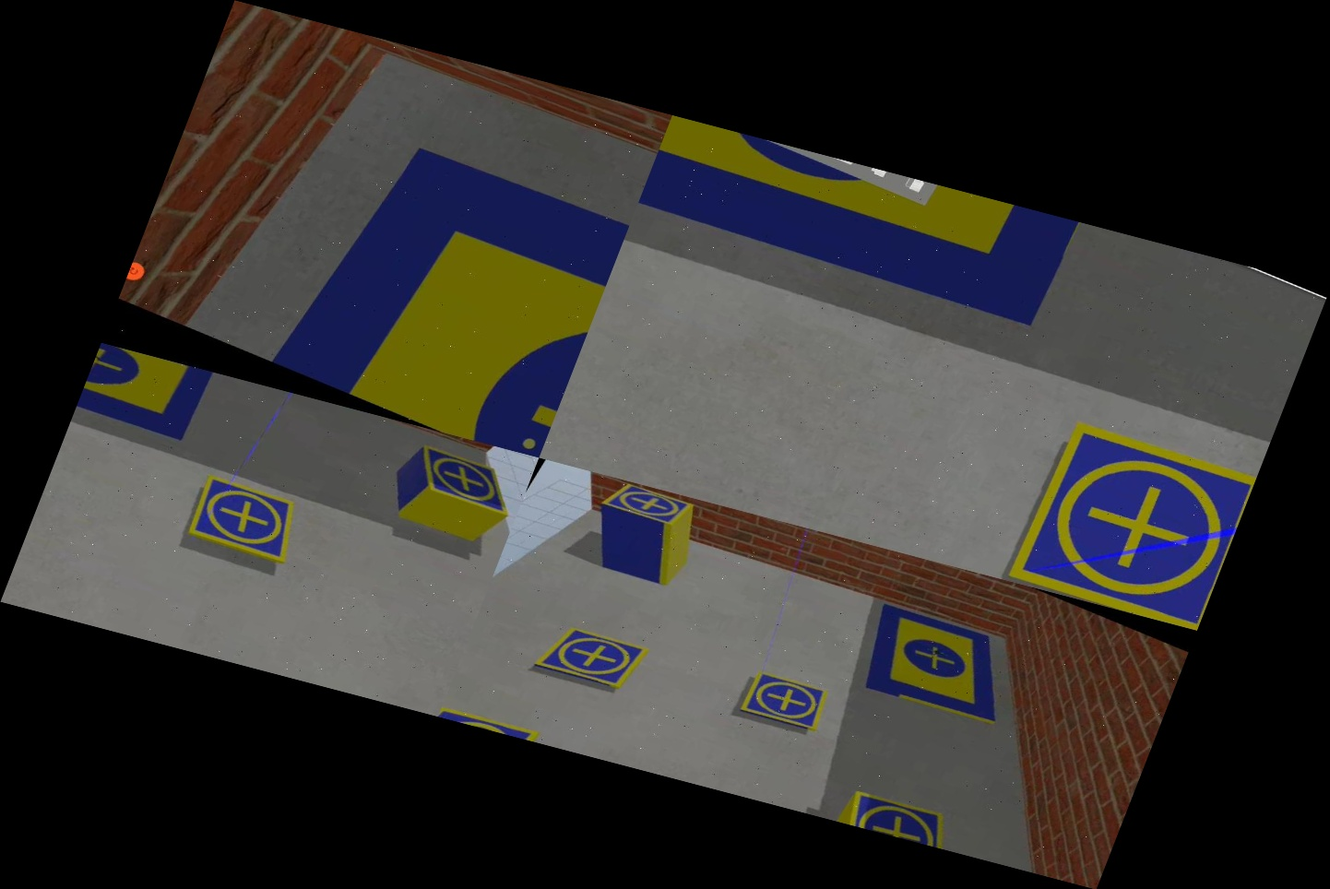large_base: (261, 107, 647, 457), (615, 115, 1098, 373), (833, 591, 1045, 742), (67, 343, 225, 461)
small_base: (986, 398, 1265, 631), (173, 472, 319, 579), (396, 440, 534, 527), (528, 611, 653, 705), (832, 777, 980, 854), (725, 663, 837, 743), (596, 477, 696, 538)
